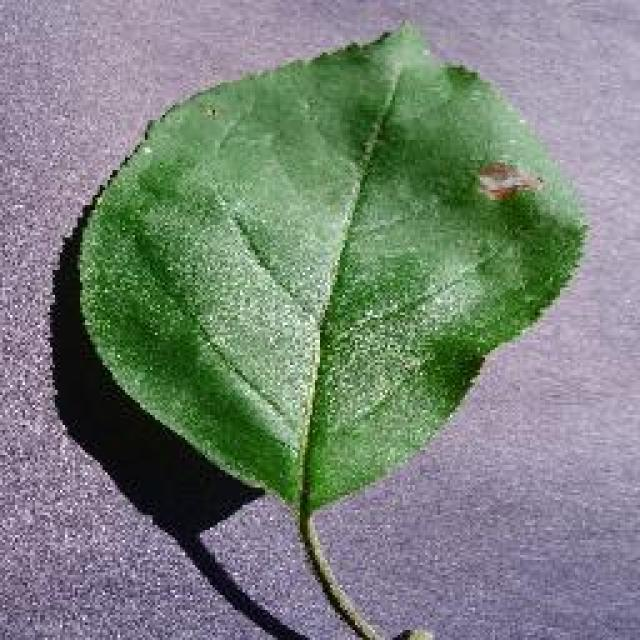Black_rot: (72, 18, 590, 638)
